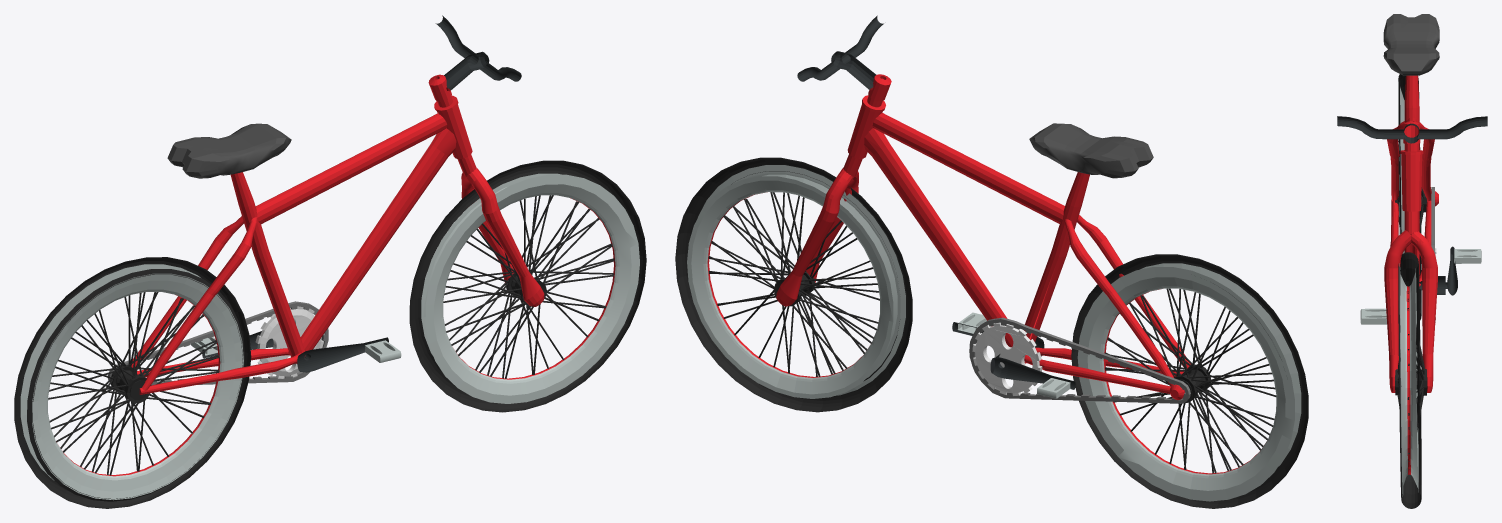
The model's file is o3_bici_citta.glb.
3 views of the same model, side by side, from view 1: azimuth 30°, elevation 25°; view 2: azimuth 150°, elevation 25°; view 3: azimuth 270°, elevation 25° (orthographic). The views are drawn at different scales.
Visible parts, largest first — view 1: sb_modello; view 2: sb_modello; view 3: sb_modello.
Part boxes in pixels (<box>): sb_modello: <box>14,15,646,508</box>; sb_modello: <box>675,15,1308,508</box>; sb_modello: <box>1337,14,1487,508</box>.
Size of the model in its own units: 1.75 by 1 by 0.3814.
